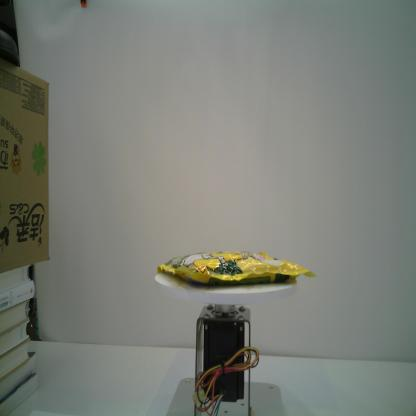Seasoner: (156, 248, 318, 288)
